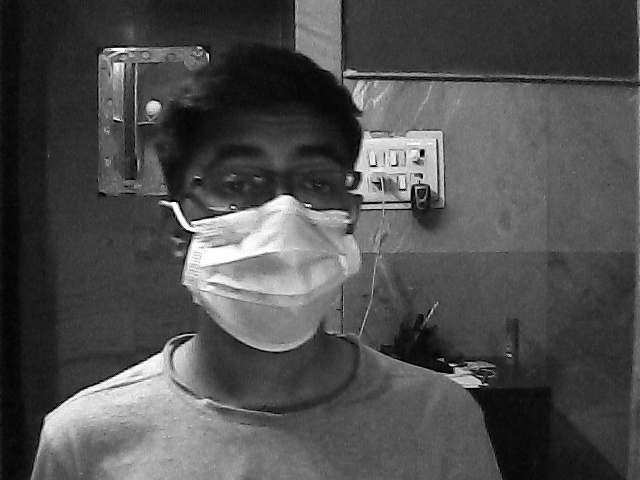mask: (175, 126, 366, 359)
